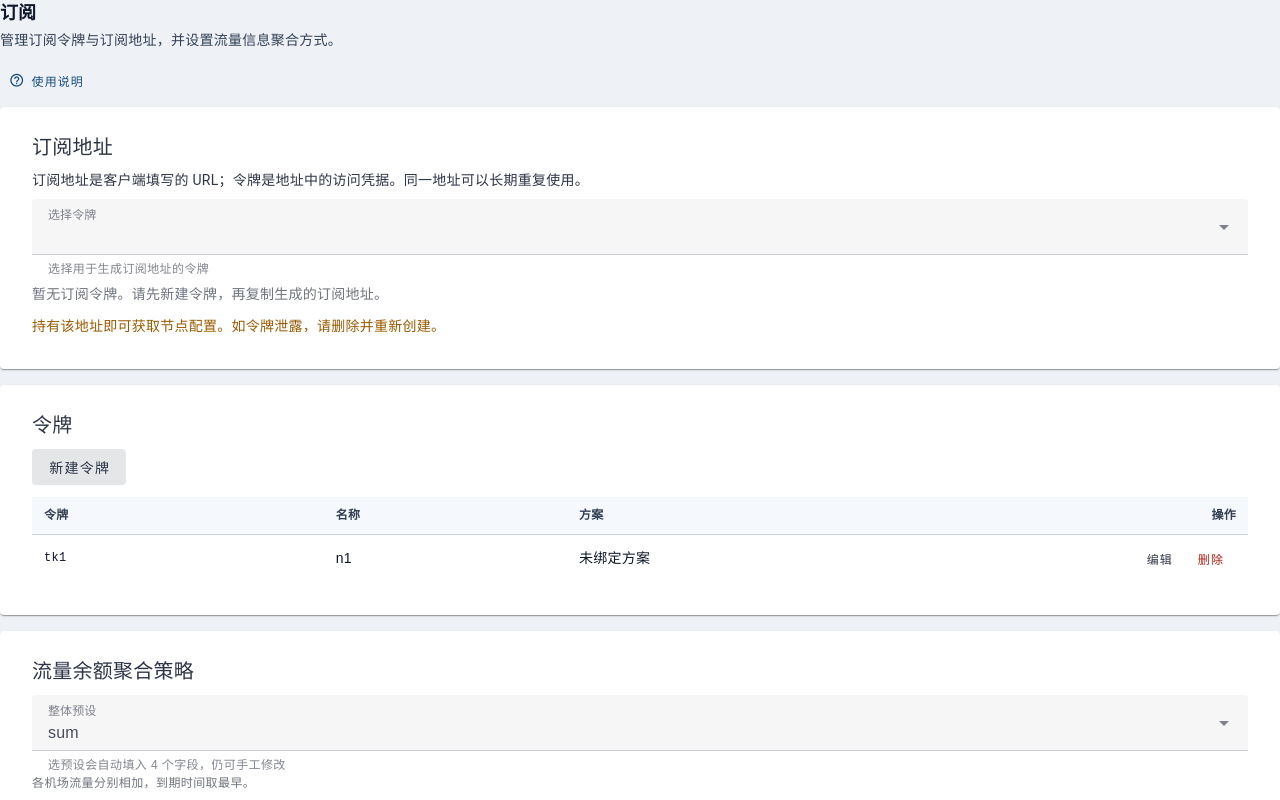
SubscriptionsPage › 方案：profiles 拉取失败降级为仅未绑定方案，令牌列表不受影响
Expected: the row with test id "token-row" is shown, top-left (32, 534), bottom-right (1248, 583)
Click the button with test id "create-token-btn".
click(79, 467)  # box top-left (32, 449), bottom-right (126, 485)
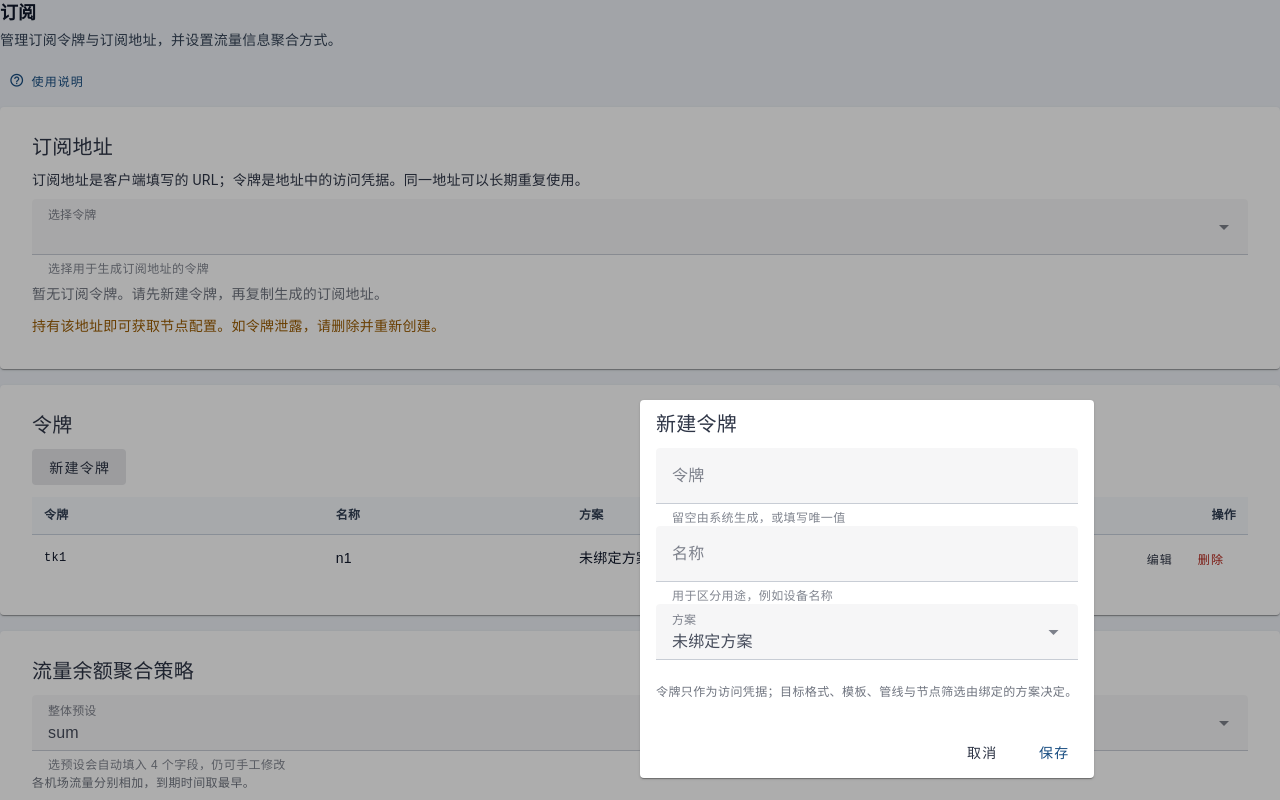
Expected: the element showing "方案 未绑定方案" is shown, top-left (656, 604), bottom-right (1078, 682)
